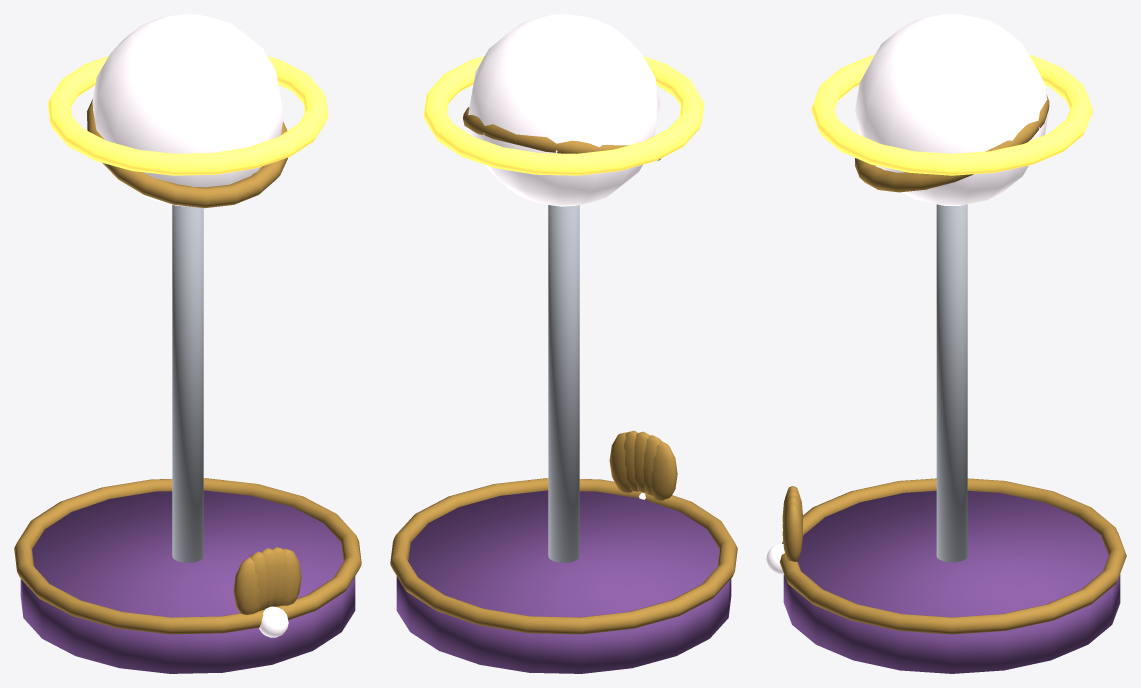
File: opera_popstar_microphone.glb
3 views of the same model, side by side, from view 1: azimuth 30°, elevation 25°; view 2: azimuth 150°, elevation 25°; view 3: azimuth 270°, elevation 25° (orthographic).
Visible parts, largest first — view 1: VisualMesh, GlowRing; view 2: VisualMesh, GlowRing; view 3: VisualMesh, GlowRing.
Part boxes in pixels (x1=…): VisualMesh: x1=14, y1=14, x2=361, y2=673; GlowRing: x1=47, y1=56, x2=328, y2=175; VisualMesh: x1=390, y1=14, x2=737, y2=673; GlowRing: x1=423, y1=56, x2=704, y2=175; VisualMesh: x1=766, y1=14, x2=1126, y2=673; GlowRing: x1=811, y1=54, x2=1092, y2=175.
Bounding box in the file's own units: 2.7 × 4.95 × 2.79.
